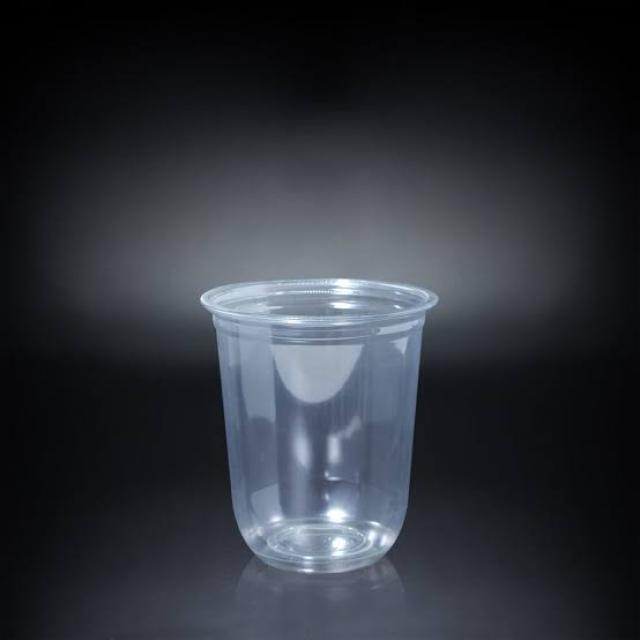plastic: (190, 262, 460, 588)
